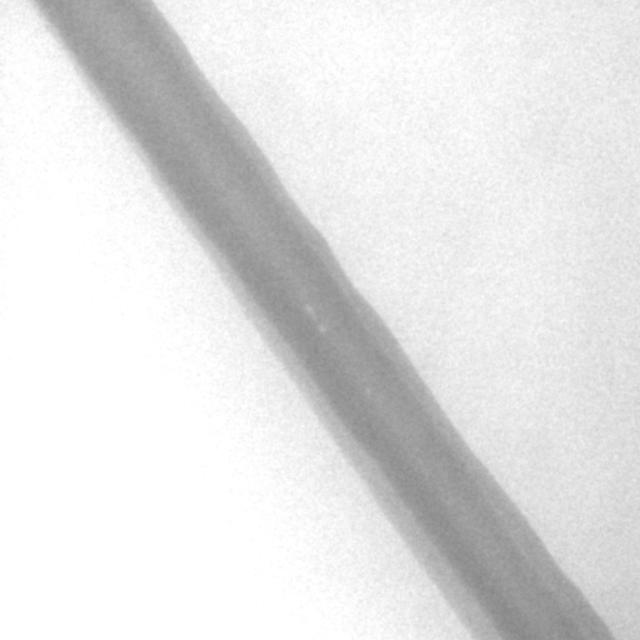air hole: (303, 302, 313, 315), (316, 322, 326, 334)
